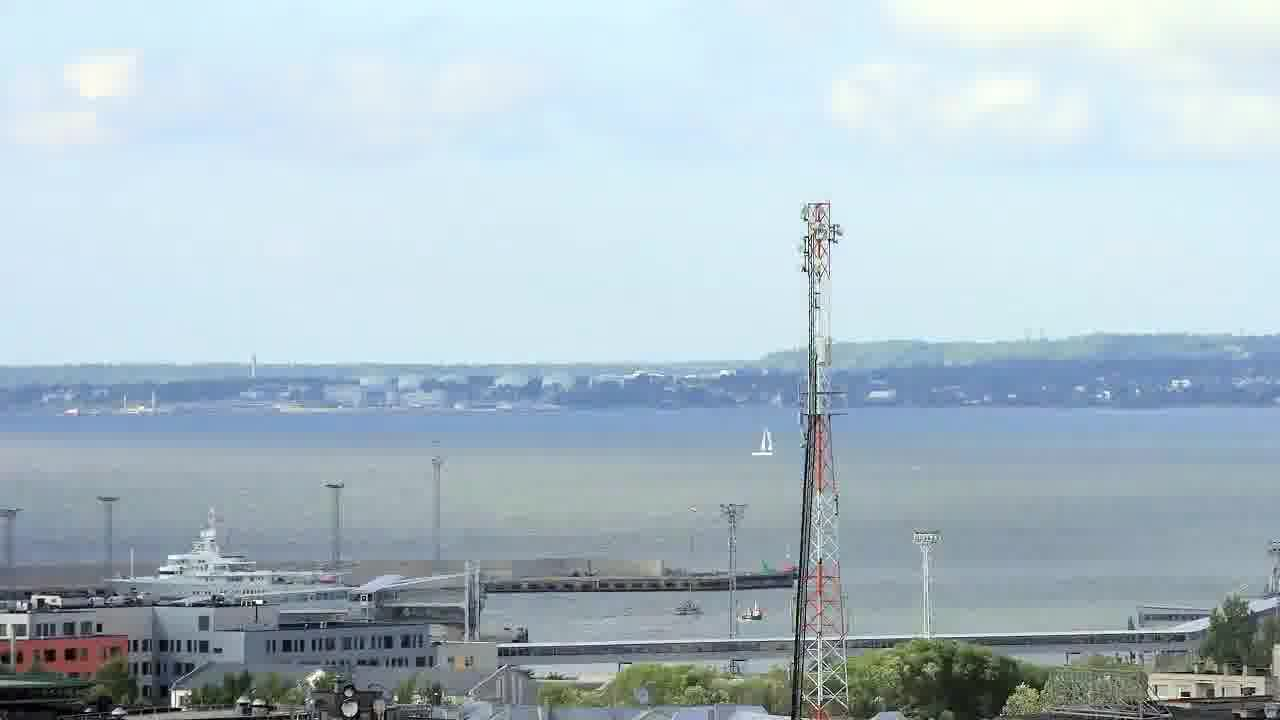type-0: (672, 570, 710, 627), (733, 596, 780, 639)
type-2: (745, 415, 788, 464)
type-3: (98, 503, 361, 603)
